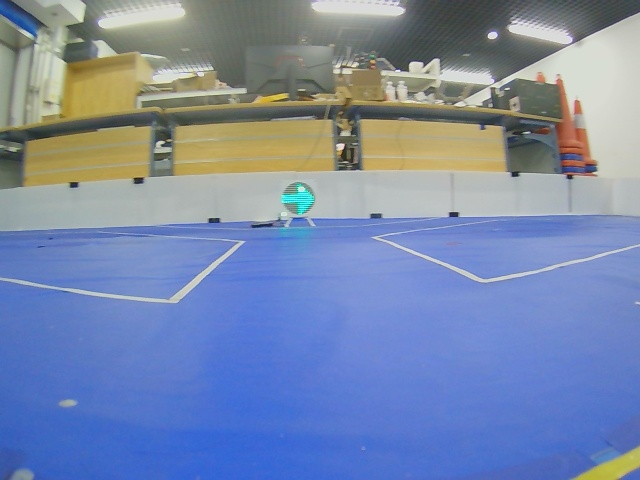right_green: (281, 182, 315, 215)
